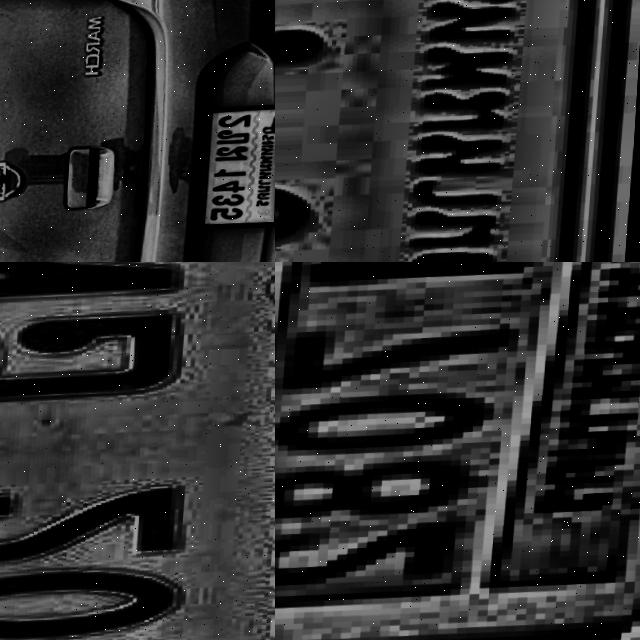license-plate: (275, 262, 640, 640), (0, 262, 275, 640), (275, 0, 611, 262), (193, 104, 275, 241)
